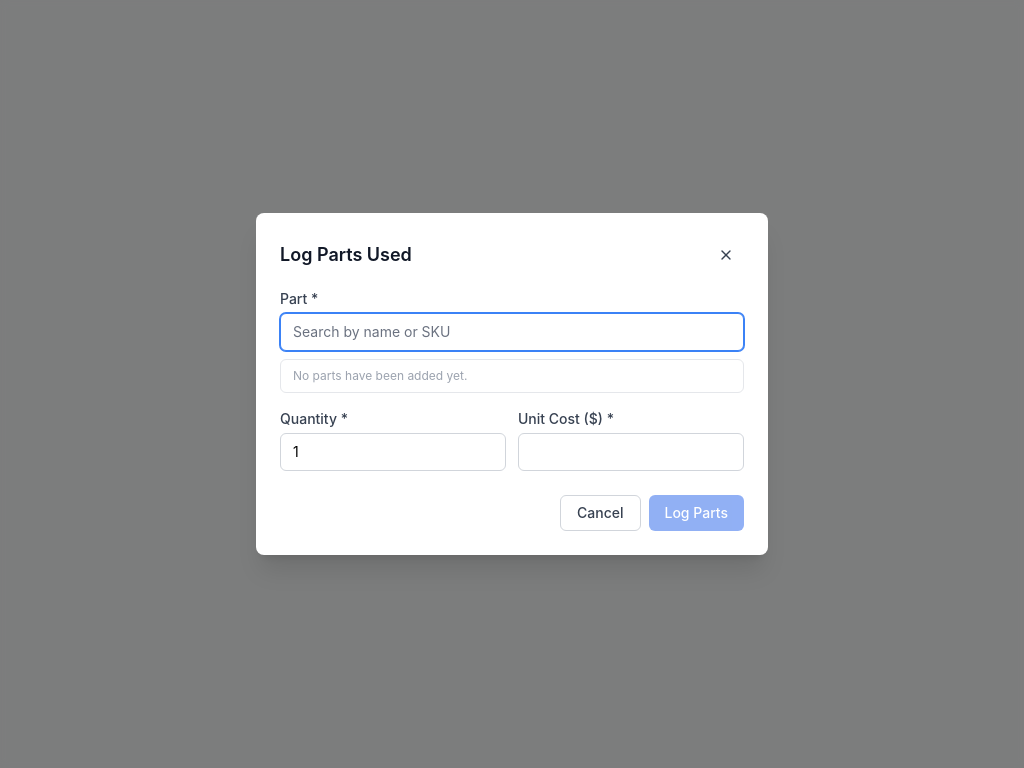
Test case: PartLogModal › says so when there are no parts, and when nothing matches
expect the list item "No parts have been added yet." is shown: met, box [293,368,467,383]
Type "zzz" into the search field labelled "Part *" at (512, 332), box [280,313,744,351]
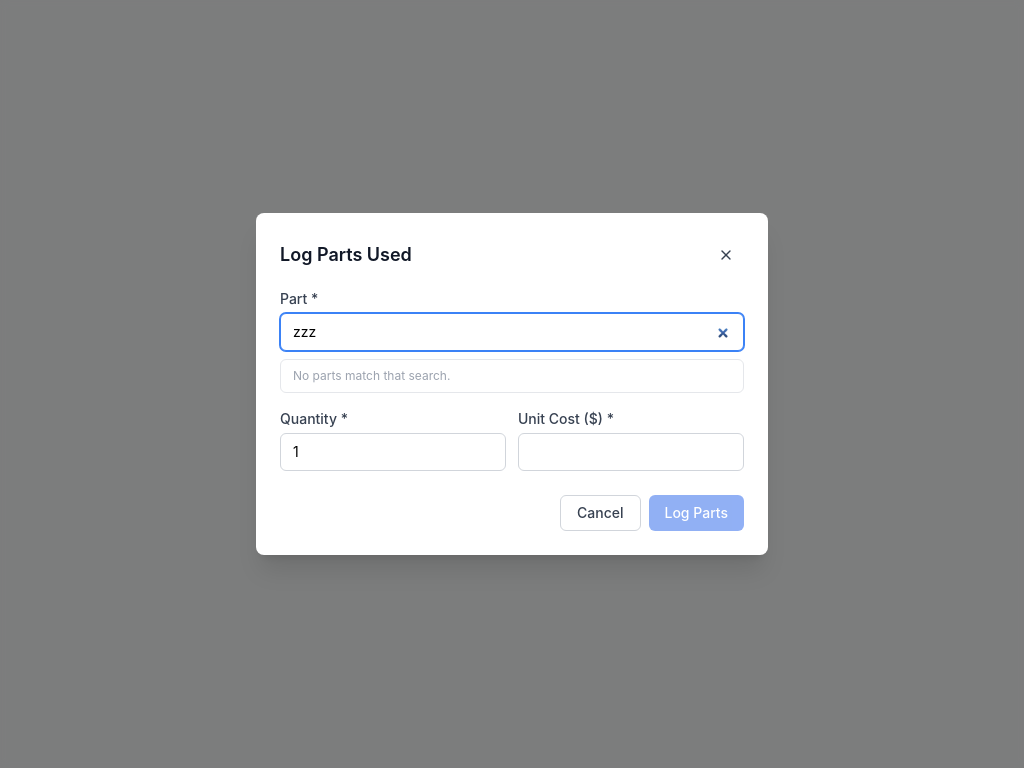
expect the list item "No parts match that search." is shown: met, box [293,368,450,383]
